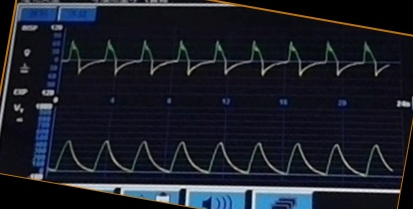Accumulation Flow: (66, 32, 384, 95)
Volume: (54, 121, 390, 184)
